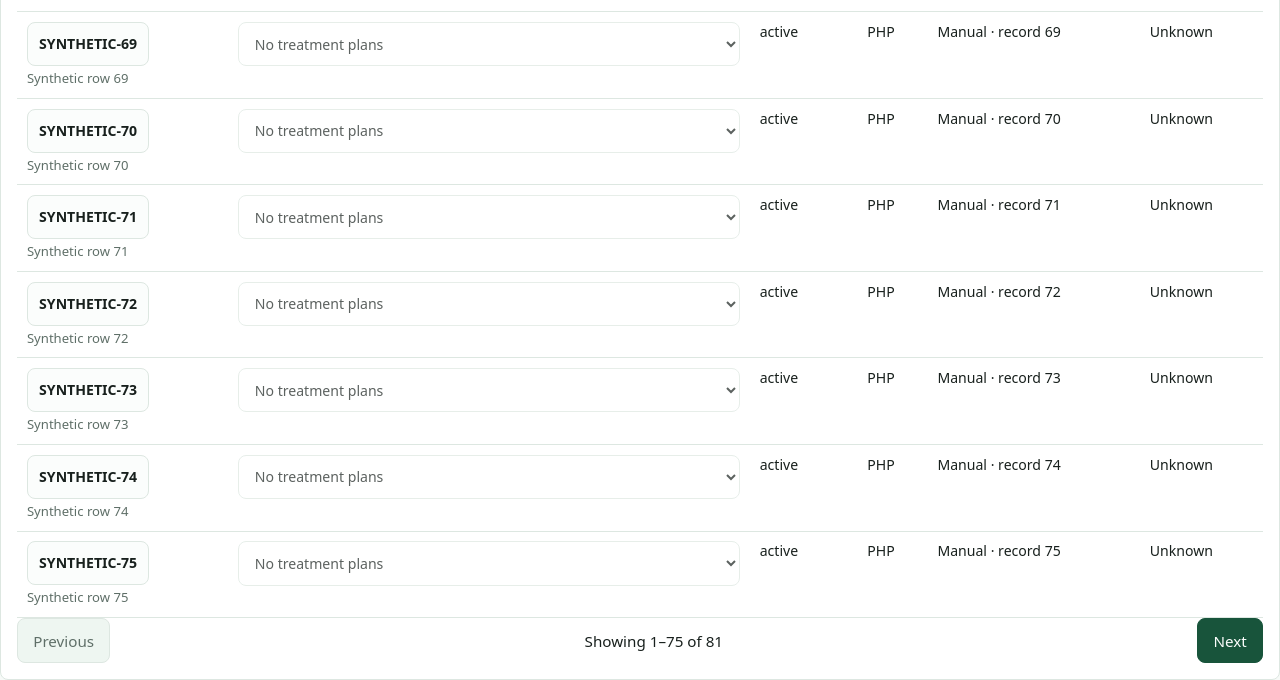
it: patients roster renders bounded pages and searches all saved rows
(page scrolled)
Step 1. Click the button "Next" → click(1230, 641), box [1197,618,1263,663]
(page scrolled)
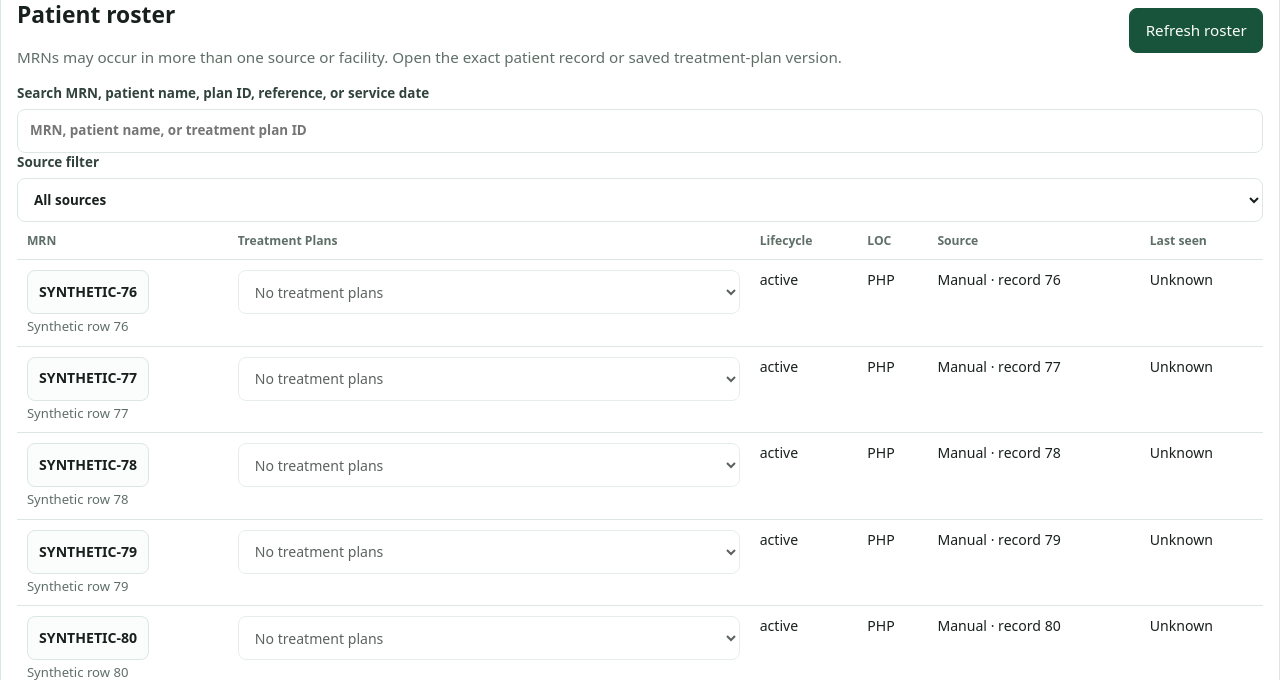
Now the number of rows is 7
Step 2. Type "SYNTHETIC-80" into the field → (640, 131), box [17,109,1263,153]
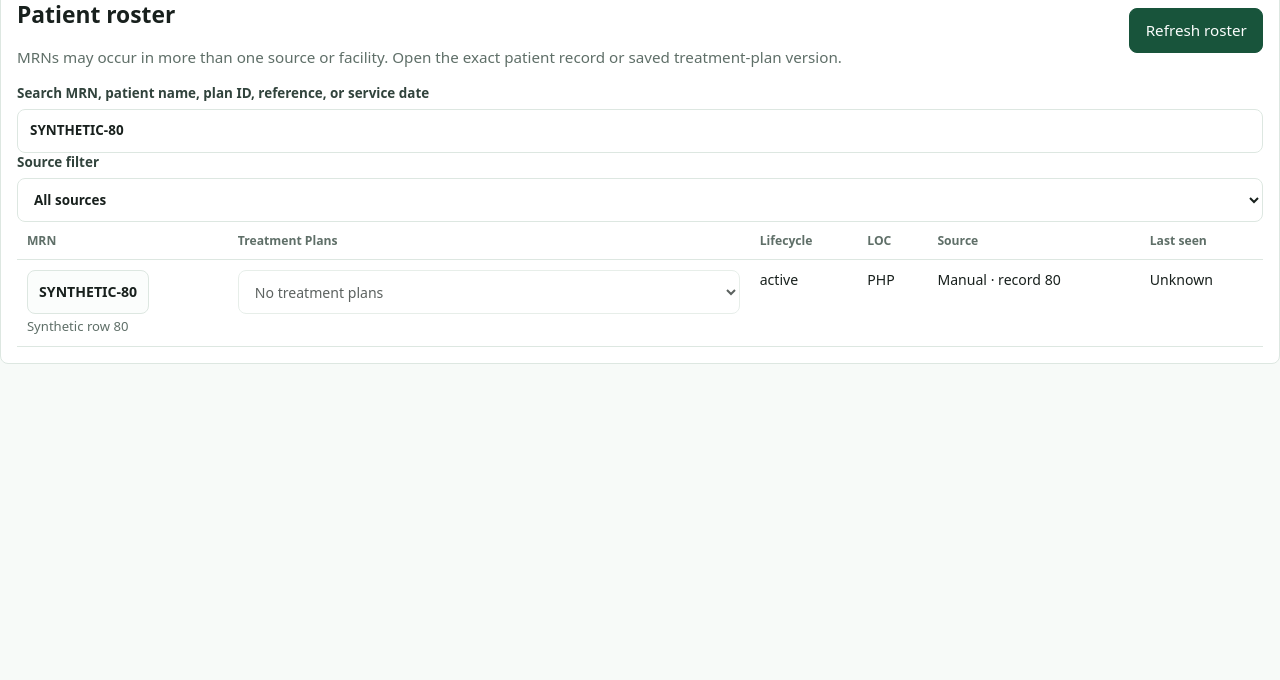
Now the button "SYNTHETIC-80" is shown, box [27,270,149,314]
Now the number of rows is 2, box [17,222,1263,260]; [17,260,1263,346]
